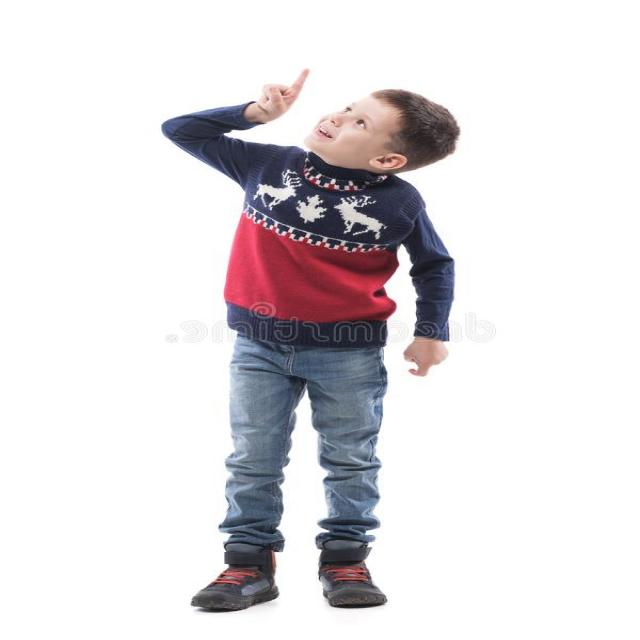child: (152, 63, 513, 620)
